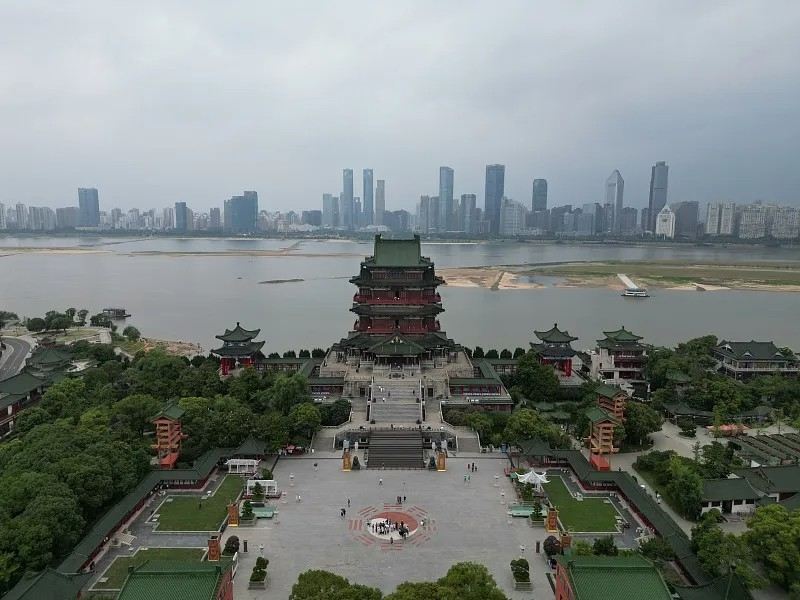Teng: (331, 233, 461, 364)
